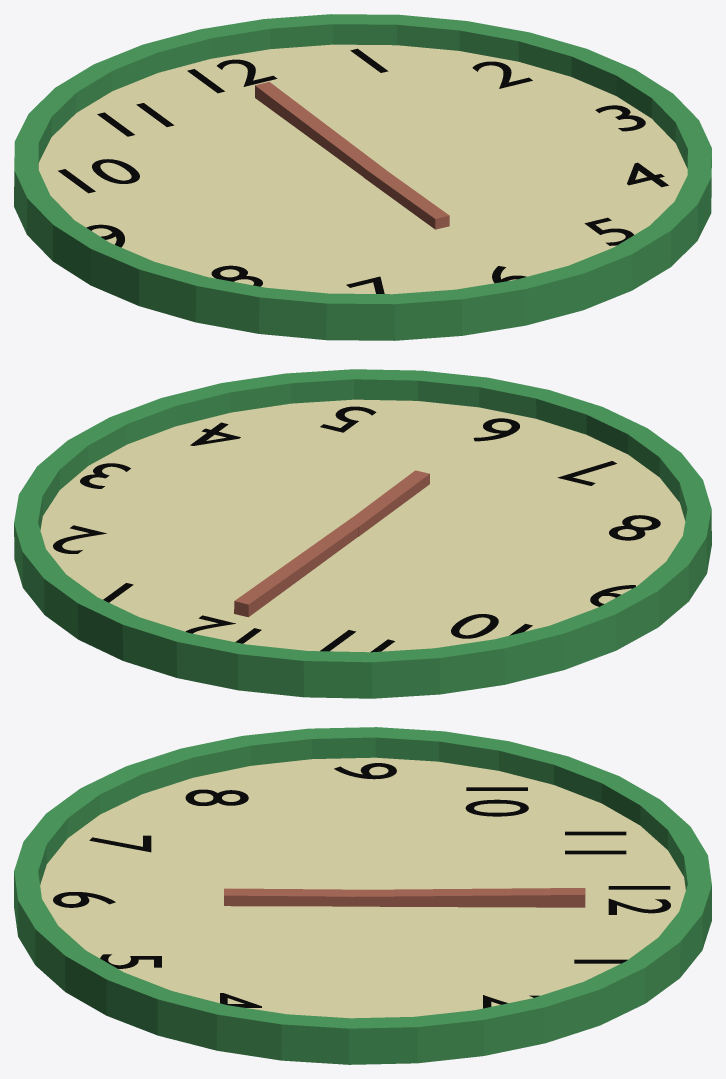
The model's file is Jam dinding 6.fbx.
3 views of the same model, one above another, from view 1: azimuth 30°, elevation 25°; view 2: azimuth 150°, elevation 25°; view 3: azimuth 270°, elevation 25° (orthographic).
Visible parts, largest first — view 1: Circle, Circle.001, Text, Cube.001, Cube.002; view 2: Circle, Circle.001, Text, Cube.001, Cube.002; view 3: Circle, Circle.001, Text, Cube.001, Cube.002.
Part boxes in pixels (bbox=[...]): Circle: bbox=[38, 44, 687, 294]; Circle.001: bbox=[14, 14, 711, 340]; Text: bbox=[58, 48, 668, 293]; Cube.001: bbox=[255, 81, 385, 176]; Cube.002: bbox=[363, 168, 449, 229]; Circle: bbox=[40, 399, 685, 652]; Circle.001: bbox=[14, 369, 711, 698]; Text: bbox=[53, 406, 660, 652]; Cube.001: bbox=[234, 518, 359, 617]; Cube.002: bbox=[350, 470, 429, 536]; Circle: bbox=[40, 757, 685, 1018]; Circle.001: bbox=[14, 727, 711, 1064]; Text: bbox=[53, 763, 670, 1008]; Cube.001: bbox=[350, 888, 585, 907]; Cube.002: bbox=[224, 888, 362, 906].
Bounding box in the file's own units: 430 × 29.52 × 430.
